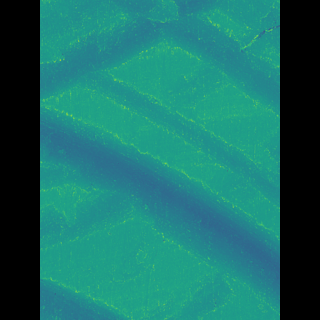Loch: (69, 100, 250, 314), (100, 60, 250, 211), (69, 0, 205, 100)
